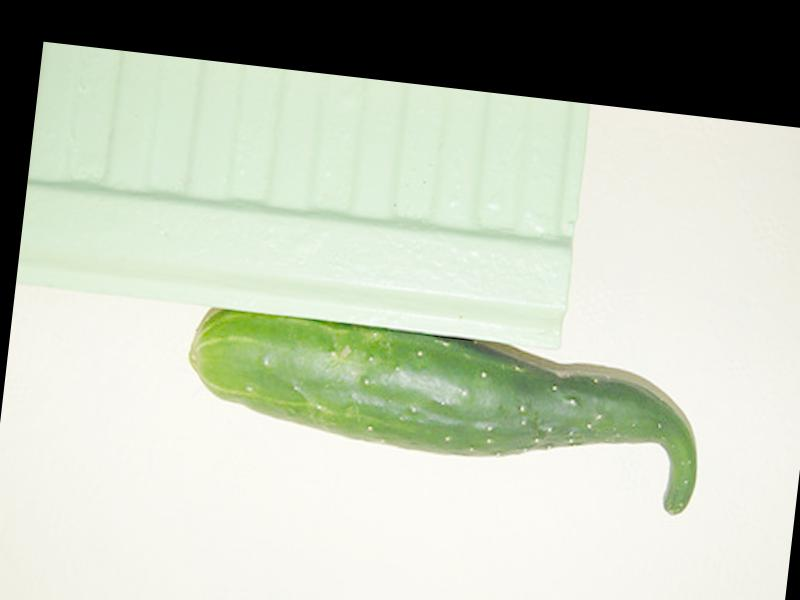Cucumber: (178, 305, 711, 515)
